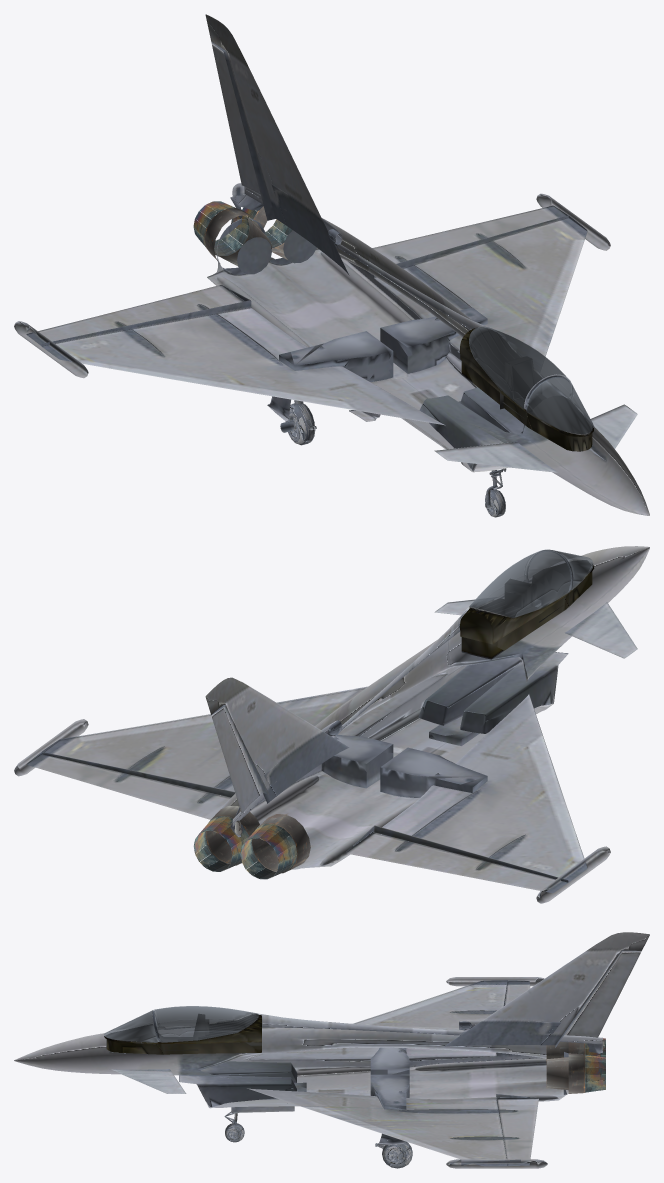
File: fightAir.glb
3 views of the same model, one above another, from view 1: azimuth 30°, elevation 25°; view 2: azimuth 150°, elevation 25°; view 3: azimuth 270°, elevation 25° (orthographic). The views are drawn at different scales.
Visible parts, largest first — view 1: AM84_014_EF_13, AM84_014_EF_08, AM84_014_EF_10, AM84_014_EF_01, AM84_014_EF_07, AM84_014_EF_11; view 2: AM84_014_EF_13, AM84_014_EF_08, AM84_014_EF_01, AM84_014_EF_07, AM84_014_EF_10; view 3: AM84_014_EF_13, AM84_014_EF_08, AM84_014_EF_07, AM84_014_EF_10, AM84_014_EF_11, AM84_014_EF_01.
Boxes of the visible parts, x1,y1,x2,y2 form: AM84_014_EF_13: [14, 14, 649, 515]; AM84_014_EF_08: [469, 326, 593, 434]; AM84_014_EF_10: [469, 328, 591, 436]; AM84_014_EF_01: [193, 201, 292, 256]; AM84_014_EF_07: [204, 187, 287, 265]; AM84_014_EF_11: [285, 403, 505, 517]; AM84_014_EF_13: [14, 546, 649, 903]; AM84_014_EF_08: [469, 549, 593, 617]; AM84_014_EF_01: [193, 816, 296, 879]; AM84_014_EF_07: [205, 806, 312, 873]; AM84_014_EF_10: [469, 560, 591, 622]; AM84_014_EF_13: [14, 932, 649, 1168]; AM84_014_EF_08: [104, 1006, 258, 1042]; AM84_014_EF_07: [546, 1040, 604, 1093]; AM84_014_EF_10: [104, 1014, 258, 1050]; AM84_014_EF_11: [225, 1123, 412, 1168]; AM84_014_EF_01: [585, 1038, 605, 1092].
Bounding box in the file's own units: 10.92 × 5.71 × 15.72.
Materials: 6 (4 with a texture image).
